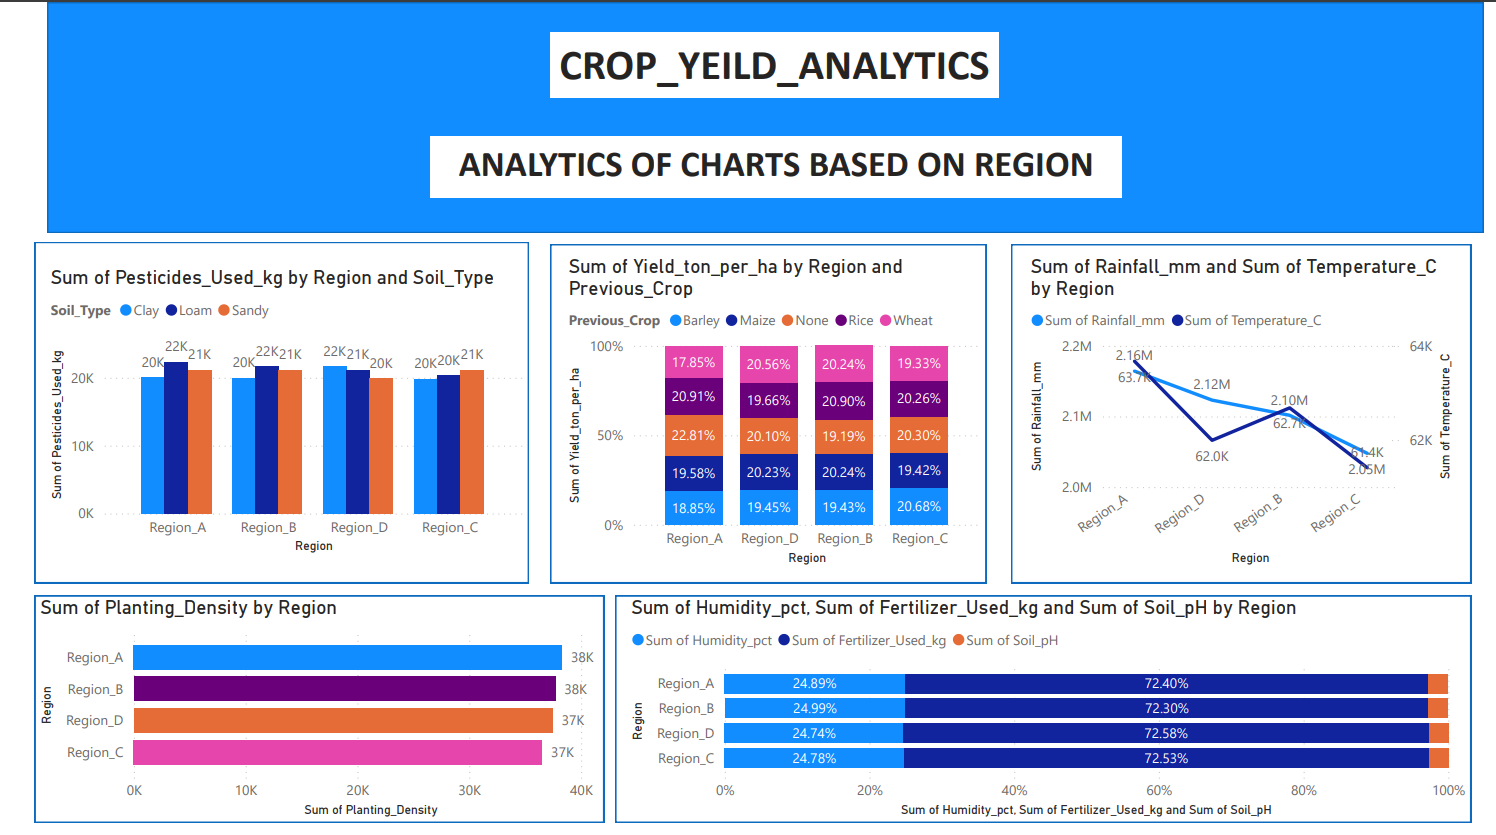

Layout of this report page (visuals, bound fields, positions):
{"tool":"powerbi","page":{"name":"Page 3","canvas":[1280,720],"ordinal":2},"visuals":[{"type":"shape","box":[20.6,0,1259.7,203.1],"z":0},{"type":"textbox","box":[462.4,27.4,392.5,56.3],"z":1000},{"type":"textbox","box":[356.8,118,606.5,53.5],"z":2000},{"type":"clusteredColumnChart","fields":{"Category":["crop_yield_dataset.Region"],"Y":["Sum(crop_yield_dataset.Pesticides_Used_kg)"],"Series":["crop_yield_dataset.Soil_Type"]},"box":[19.2,231.9,424,256.6],"z":3000},{"type":"shape","box":[9.6,211.3,433.6,299.1],"z":4000},{"type":"hundredPercentStackedColumnChart","fields":{"Category":["crop_yield_dataset.Region"],"Series":["crop_yield_dataset.Previous_Crop"],"Y":["Sum(crop_yield_dataset.Yield_ton_per_ha)"]},"box":[473.4,222.3,370.5,277.2],"z":5000},{"type":"shape","box":[462.4,212.7,381.5,297.8],"z":6000},{"type":"lineChart","fields":{"Category":["crop_yield_dataset.Region"],"Y":["Sum(crop_yield_dataset.Rainfall_mm)"],"Y2":["Sum(crop_yield_dataset.Temperature_C)"]},"box":[878.2,222.3,380.1,277.2],"z":7000},{"type":"shape","box":[865.9,212.7,403.4,297.8],"z":8000},{"type":"barChart","fields":{"Category":["crop_yield_dataset.Region"],"Y":["Sum(crop_yield_dataset.Planting_Density)"]},"box":[9.6,521.4,518.7,199],"z":9000},{"type":"shape","box":[9.6,521.4,499.5,199],"z":10000},{"type":"hundredPercentStackedBarChart","fields":{"Category":["crop_yield_dataset.Region"],"Y":["Sum(crop_yield_dataset.Humidity_pct)","Sum(crop_yield_dataset.Fertilizer_Used_kg)","Sum(crop_yield_dataset.Soil_pH)"]},"box":[528.3,521.4,741,199],"z":11000},{"type":"shape","box":[518.7,521.4,750.6,199],"z":12000}]}

Visuals, with their boxes in screenshot pixels (x1, y1, x2, y2), scaled from the page's 1280x720 canvas onto the 1496x835 screenshot:
shape: [24, 0, 1495, 236]
textbox: [540, 32, 999, 97]
textbox: [417, 137, 1126, 199]
clusteredColumnChart - crop_yield_dataset.Region x Sum(crop_yield_dataset.Pesticides_Used_kg): [22, 269, 518, 567]
shape: [11, 245, 518, 592]
hundredPercentStackedColumnChart - crop_yield_dataset.Region x crop_yield_dataset.Previous_Crop: [553, 258, 986, 579]
shape: [540, 247, 986, 592]
lineChart - crop_yield_dataset.Region x Sum(crop_yield_dataset.Rainfall_mm): [1026, 258, 1471, 579]
shape: [1012, 247, 1483, 592]
barChart - crop_yield_dataset.Region x Sum(crop_yield_dataset.Planting_Density): [11, 605, 617, 834]
shape: [11, 605, 595, 834]
hundredPercentStackedBarChart - crop_yield_dataset.Region x Sum(crop_yield_dataset.Humidity_pct): [617, 605, 1483, 834]
shape: [606, 605, 1483, 834]
